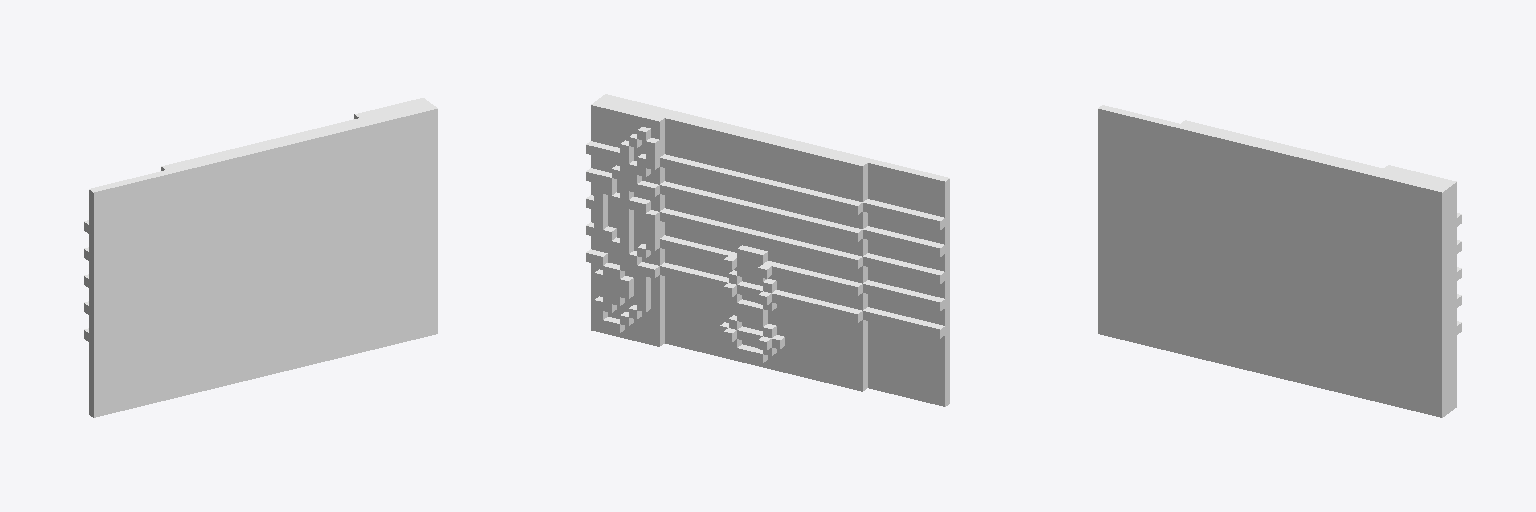
Rendered from pentagramaDomayor.obj.
3 views of the same model, side by side, from view 1: azimuth 30°, elevation 25°; view 2: azimuth 150°, elevation 25°; view 3: azimuth 330°, elevation 25° (orthographic).
Visible parts, largest first — view 1: object 1; view 2: object 1; view 3: object 1.
Boxes of the visible parts, box(x1,y1,x2,y2) form: object 1: box(84, 98, 437, 417); object 1: box(586, 94, 949, 406); object 1: box(1098, 105, 1461, 417).
Bounding box in the file's own units: 4 × 2.5 × 0.4.